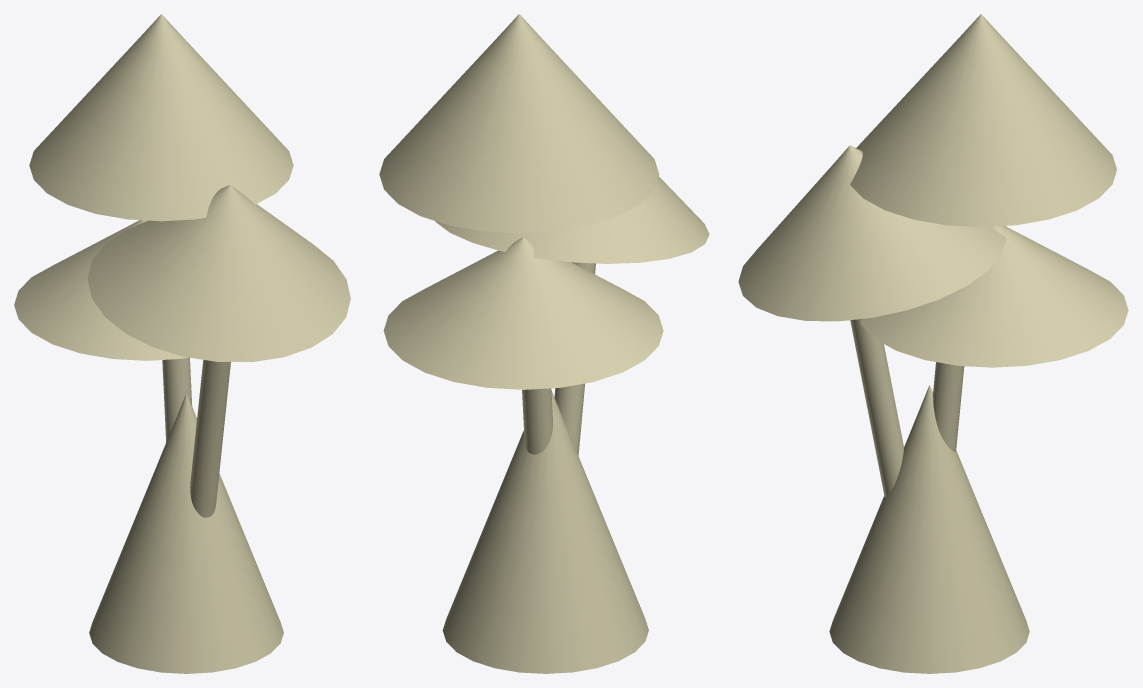
Rendered from SM_WB_Mangrove1.FBX.
The picture shows the model from 3 angles, left to right: view 1: azimuth 30°, elevation 25°; view 2: azimuth 150°, elevation 25°; view 3: azimuth 270°, elevation 25°; orthographic projection. The views are drawn at different scales.
Visible parts, largest first — view 1: SM_WB_Mangrove1; view 2: SM_WB_Mangrove1; view 3: SM_WB_Mangrove1.
Part boxes in pixels (x1,y1,x2,y2): SM_WB_Mangrove1: (14, 14, 350, 673); SM_WB_Mangrove1: (379, 14, 709, 673); SM_WB_Mangrove1: (738, 14, 1128, 673).
Bounding box in the file's own units: 252 × 341 × 595.
